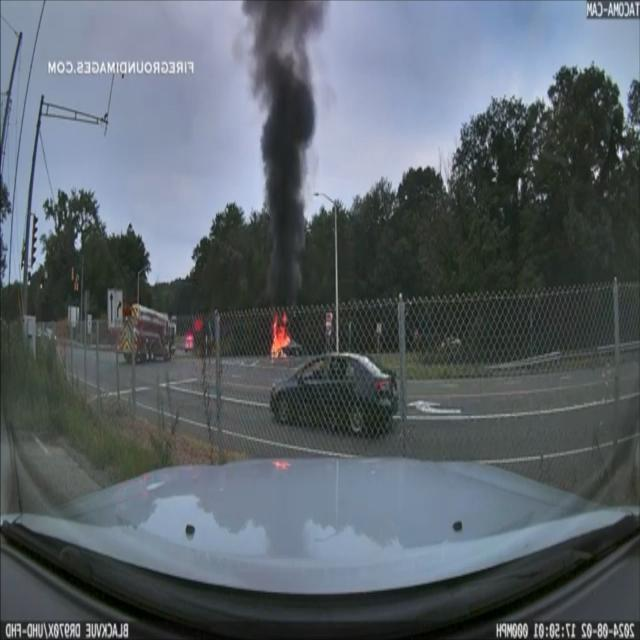fire: (270, 318, 294, 358)
